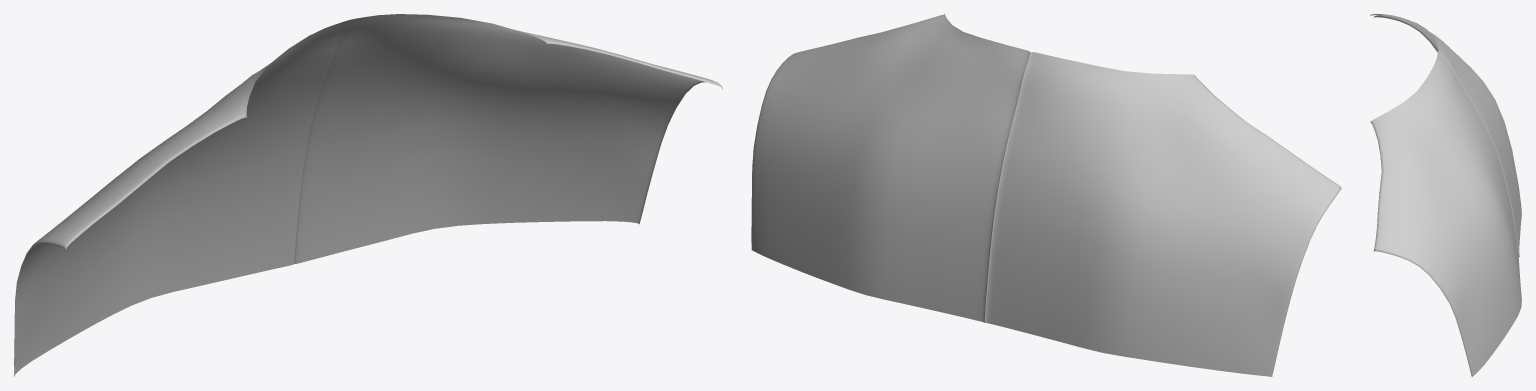
File: Half_Linning.glb
The picture shows the model from 3 angles, left to right: view 1: azimuth 30°, elevation 25°; view 2: azimuth 150°, elevation 25°; view 3: azimuth 270°, elevation 25°; orthographic projection. The views are drawn at different scales.
Parts seen in each view (by area): view 1: Half_Linning; view 2: Half_Linning; view 3: Half_Linning.
Part boxes in pixels (bbox=[...]): Half_Linning: bbox=[14, 14, 722, 376]; Half_Linning: bbox=[751, 14, 1341, 376]; Half_Linning: bbox=[1370, 14, 1521, 376].
Size of the model in its own units: 0.0589 by 0.0253 by 0.016.
Materials: 1 (1 with a texture image).
